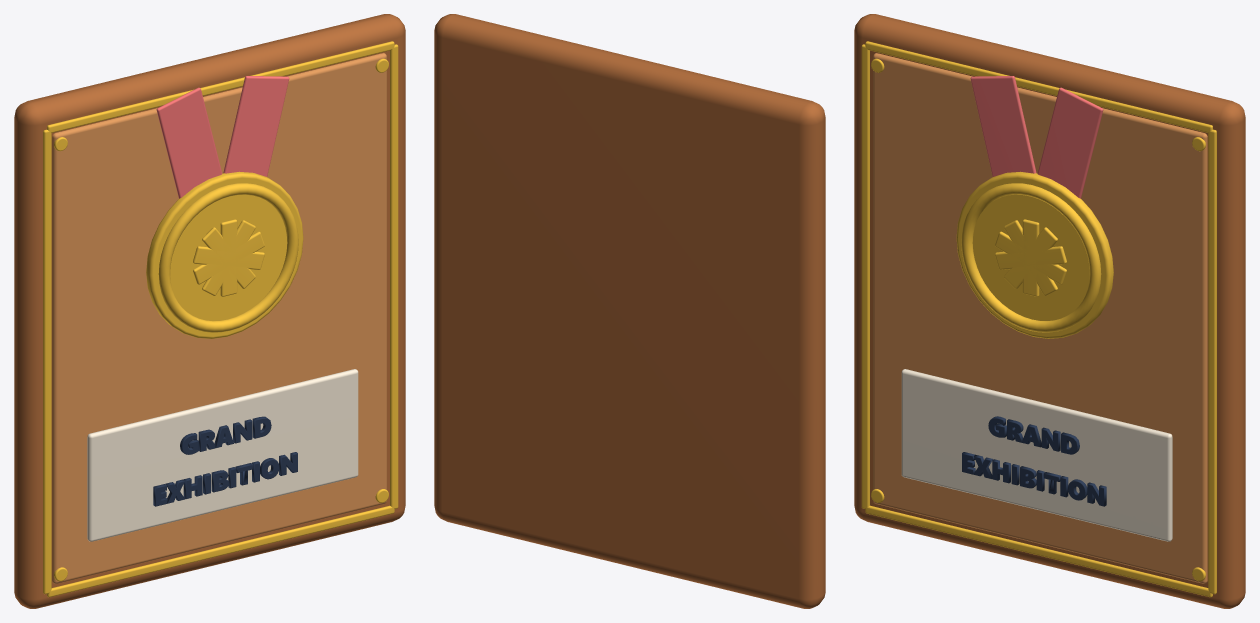
The model's file is Award.fbx.
The picture shows the model from 3 angles, left to right: view 1: azimuth 30°, elevation 25°; view 2: azimuth 150°, elevation 25°; view 3: azimuth 330°, elevation 25°; orthographic projection.
Visible parts, largest first — view 1: Award mesh; view 2: Award mesh; view 3: Award mesh.
Boxes of the visible parts, box(x1,y1,x2,y2) form: Award mesh: box(14, 14, 405, 608); Award mesh: box(434, 14, 825, 608); Award mesh: box(854, 14, 1245, 608).
Bounding box in the file's own units: 0.6 × 0.75 × 0.083.
